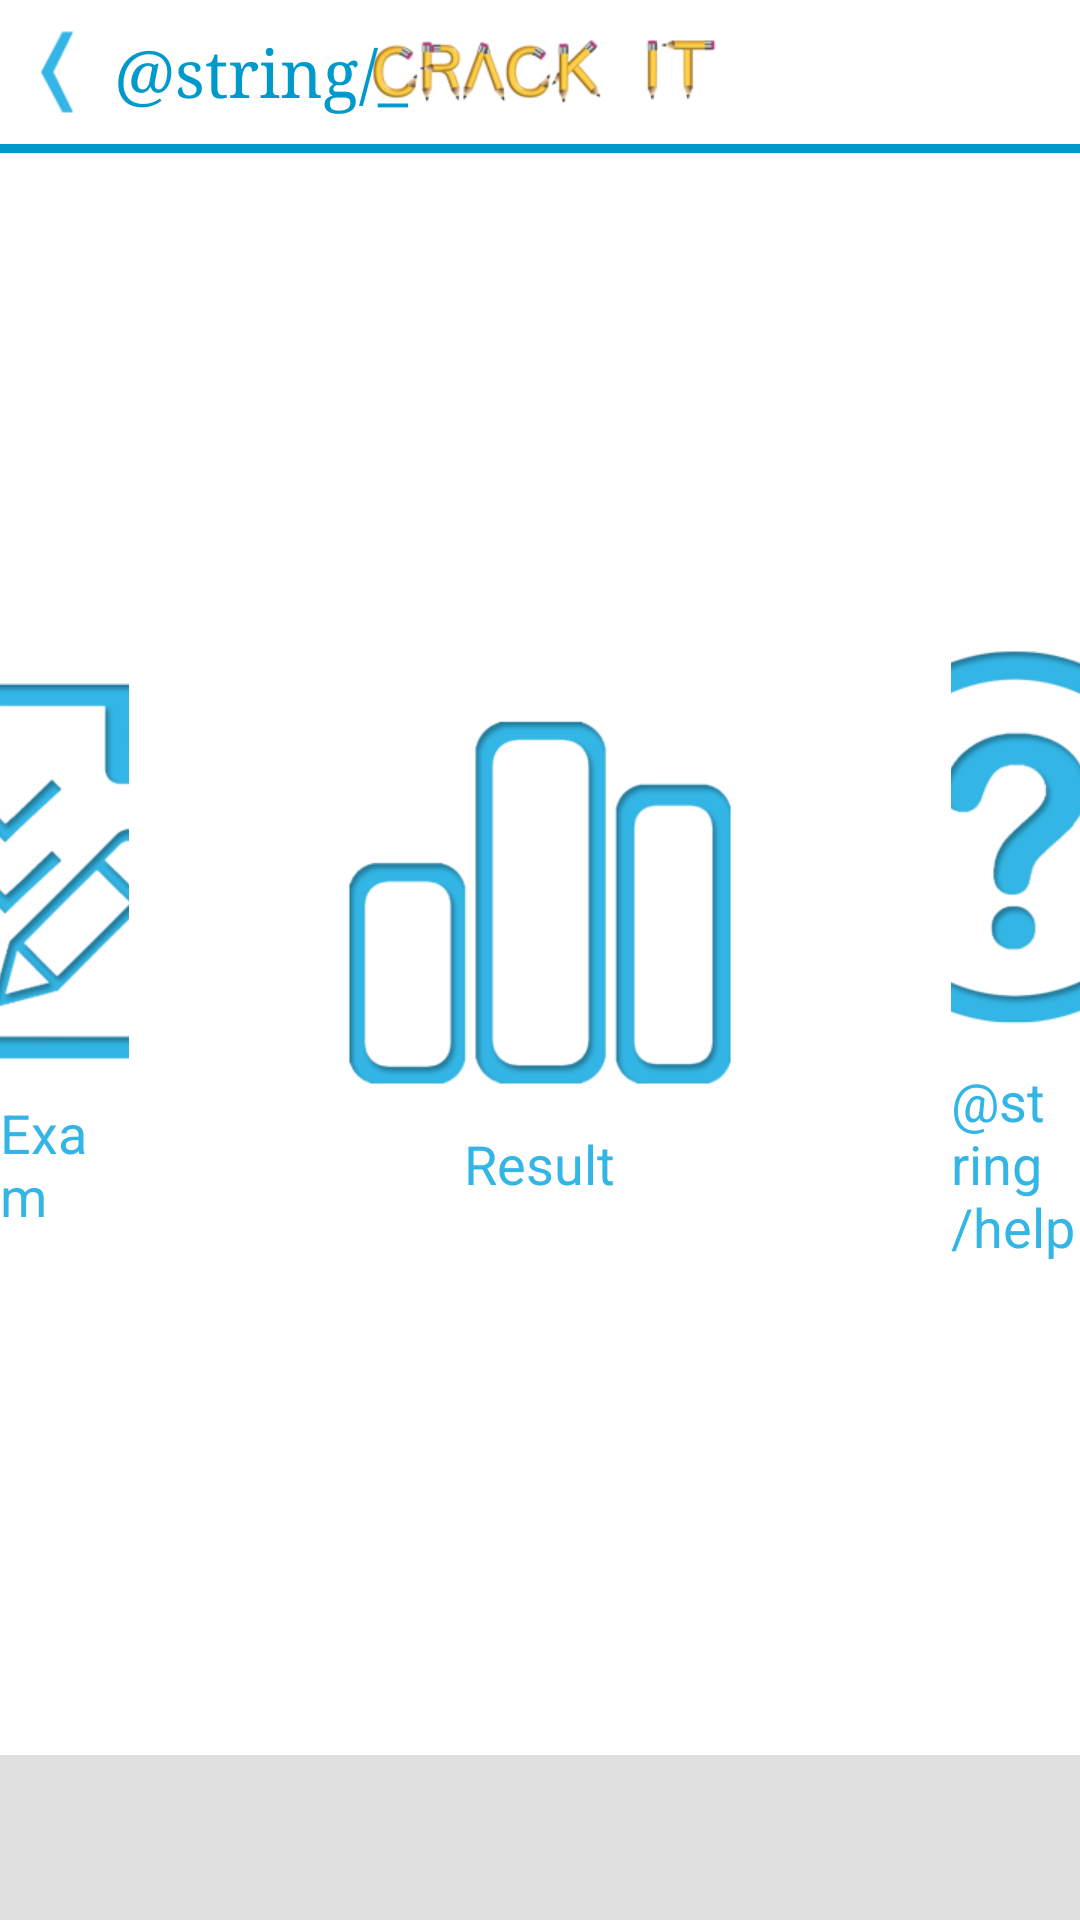

Point at icon controls on the screen. Image size 1080×1920, points as (x=x, y=y).
back screen: (x=57, y=72)
